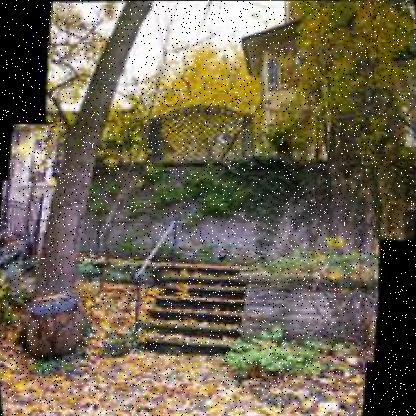stair_up: (143, 225, 255, 359)
